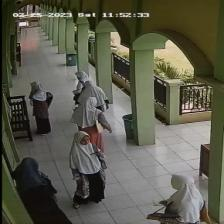HijabSyar-i: (157, 174, 203, 224), (72, 130, 102, 176), (75, 80, 114, 108), (73, 96, 105, 128), (30, 79, 55, 104), (69, 72, 93, 93)
Non Syar-i: (9, 156, 51, 190)
